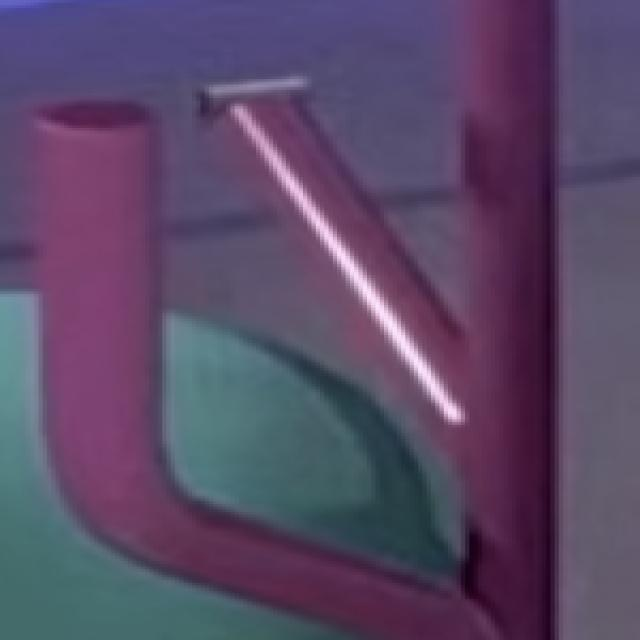Algae: (0, 296, 447, 638)
Reef: (203, 89, 478, 468), (32, 96, 160, 542)
